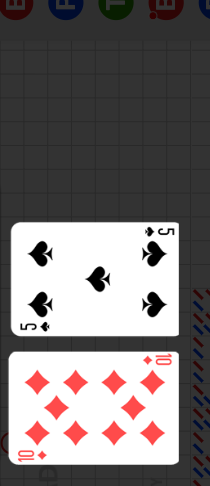10D: (17, 449, 49, 462)
5S: (143, 226, 176, 238)
